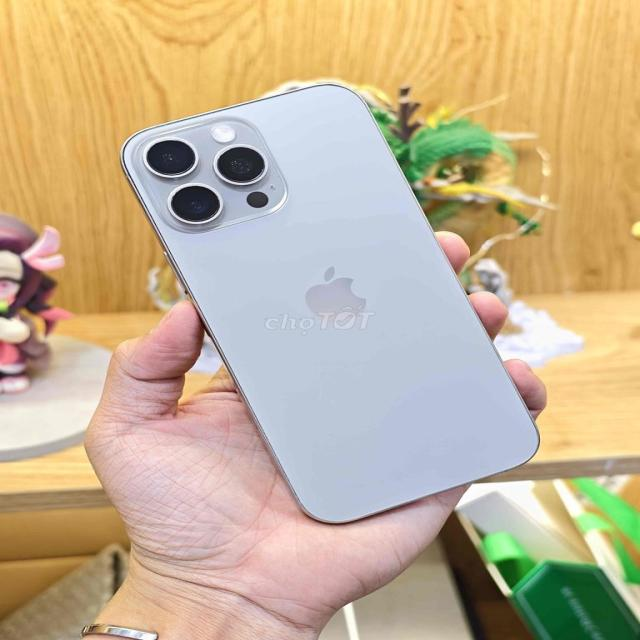gen_16: (127, 72, 548, 522)
